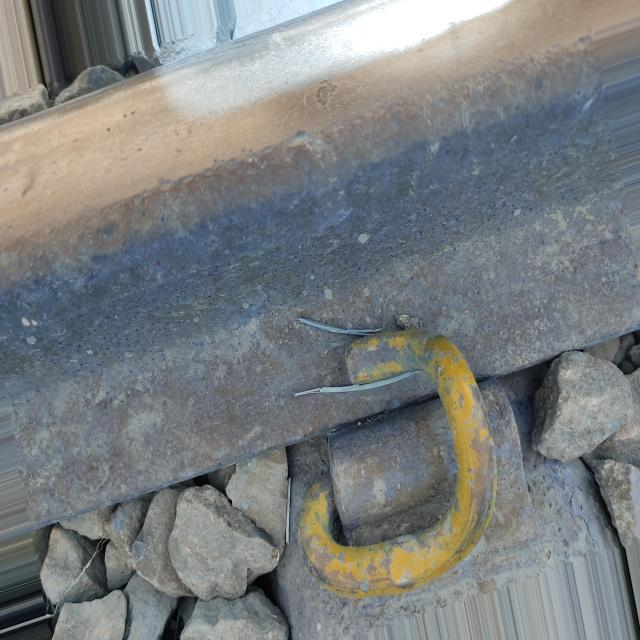Good Fasteners: (301, 329, 497, 596)
